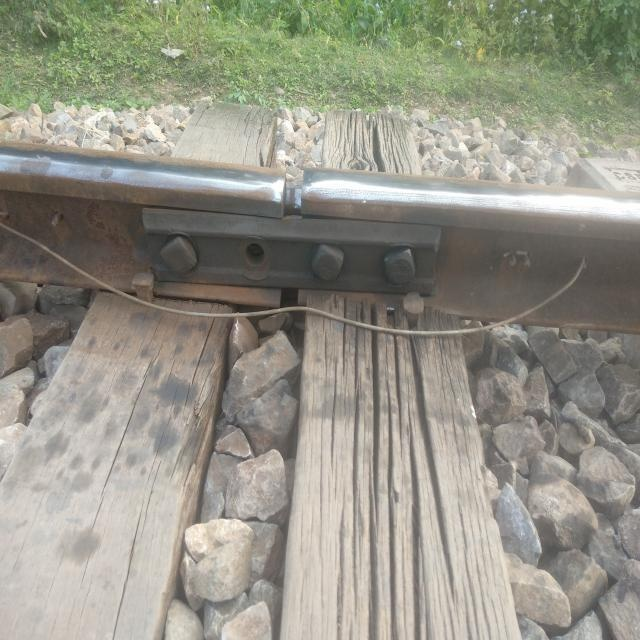obstacle: (262, 160, 331, 218), (214, 229, 278, 284)
